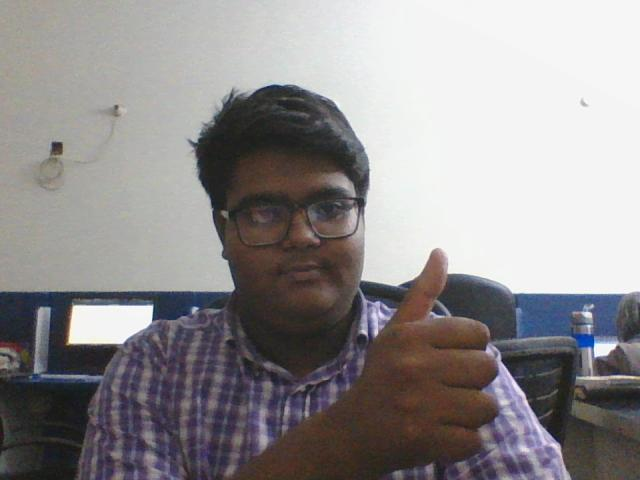thumbs-up: (378, 239, 504, 457)
